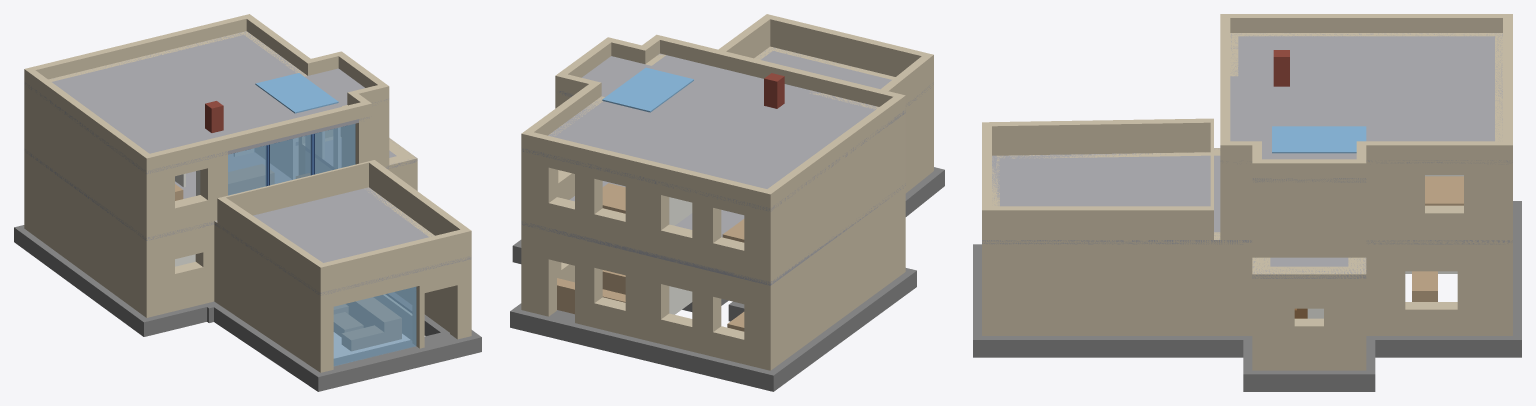
Rendered from casa_v3.glb.
3 views of the same model, side by side, from view 1: azimuth 30°, elevation 25°; view 2: azimuth 150°, elevation 25°; view 3: azimuth 270°, elevation 25° (orthographic). The views are drawn at different scales.
Visible parts, largest first — view 1: muros_PB, forjado_cubierta, muros_PA, parapeto_terraza, parapeto_cubierta, cimentacion, forjado_PB_PA, cristal_PA, cristal_PB, mobiliario, tabiques_PA, lucernario (+3 smaller); view 2: muros_PB, muros_PA, forjado_cubierta, parapeto_cubierta, cimentacion, parapeto_terraza, forjado_PB_PA, mobiliario, lucernario, chimenea, tabiques_PB, tabiques_PA; view 3: muros_PB, forjado_cubierta, muros_PA, parapeto_terraza, cimentacion, forjado_PB_PA, parapeto_cubierta, lucernario, mobiliario, chimenea.
Part boxes in pixels (x1=…): muros_PB: x1=24, y1=137, x2=471, y2=372; forjado_cubierta: x1=24, y1=31, x2=387, y2=173; muros_PA: x1=24, y1=31, x2=389, y2=237; parapeto_terraza: x1=217, y1=160, x2=471, y2=292; parapeto_cubierta: x1=24, y1=14, x2=389, y2=170; cimentacion: x1=14, y1=225, x2=481, y2=391; forjado_PB_PA: x1=24, y1=138, x2=471, y2=295; cristal_PA: x1=228, y1=123, x2=355, y2=195; cristal_PB: x1=333, y1=286, x2=416, y2=366; mobiliario: x1=175, y1=164, x2=401, y2=350; tabiques_PA: x1=175, y1=128, x2=340, y2=195; lucernario: x1=255, y1=73, x2=338, y2=113; muros_PB: x1=521, y1=46, x2=933, y2=370; muros_PA: x1=521, y1=53, x2=905, y2=281; forjado_cubierta: x1=522, y1=54, x2=905, y2=211; parapeto_cubierta: x1=521, y1=34, x2=905, y2=207; cimentacion: x1=510, y1=167, x2=944, y2=391; parapeto_terraza: x1=718, y1=14, x2=933, y2=104; forjado_PB_PA: x1=521, y1=47, x2=933, y2=285; mobiliario: x1=557, y1=183, x2=744, y2=331; lucernario: x1=602, y1=67, x2=693, y2=112; chimenea: x1=764, y1=73, x2=784, y2=108; tabiques_PB: x1=669, y1=286, x2=692, y2=314; tabiques_PA: x1=669, y1=197, x2=692, y2=225; muros_PB: x1=982, y1=148, x2=1512, y2=370; forjado_cubierta: x1=1220, y1=33, x2=1512, y2=182; muros_PA: x1=1220, y1=33, x2=1512, y2=257; parapeto_terraza: x1=982, y1=118, x2=1213, y2=239; cimentacion: x1=973, y1=201, x2=1521, y2=391; forjado_PB_PA: x1=982, y1=148, x2=1512, y2=278; parapeto_cubierta: x1=1220, y1=14, x2=1512, y2=177; lucernario: x1=1272, y1=126, x2=1366, y2=153; mobiliario: x1=1412, y1=176, x2=1463, y2=301; chimenea: x1=1273, y1=50, x2=1289, y2=86.
Size of the model in its own units: 12.6 by 7.56 by 16.85.
